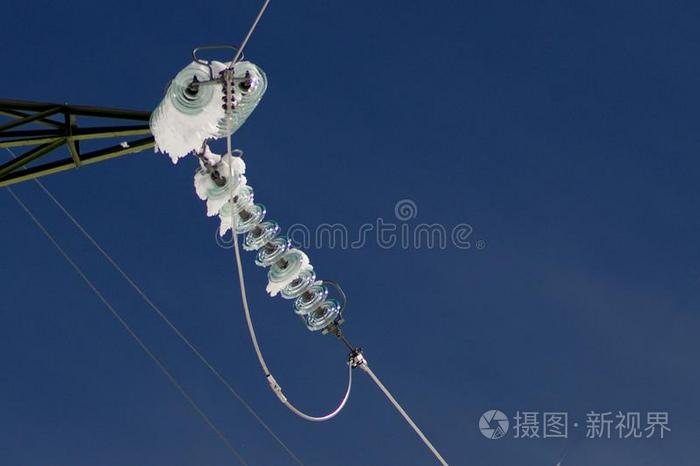insulator: (202, 156, 339, 331), (151, 61, 266, 159)
